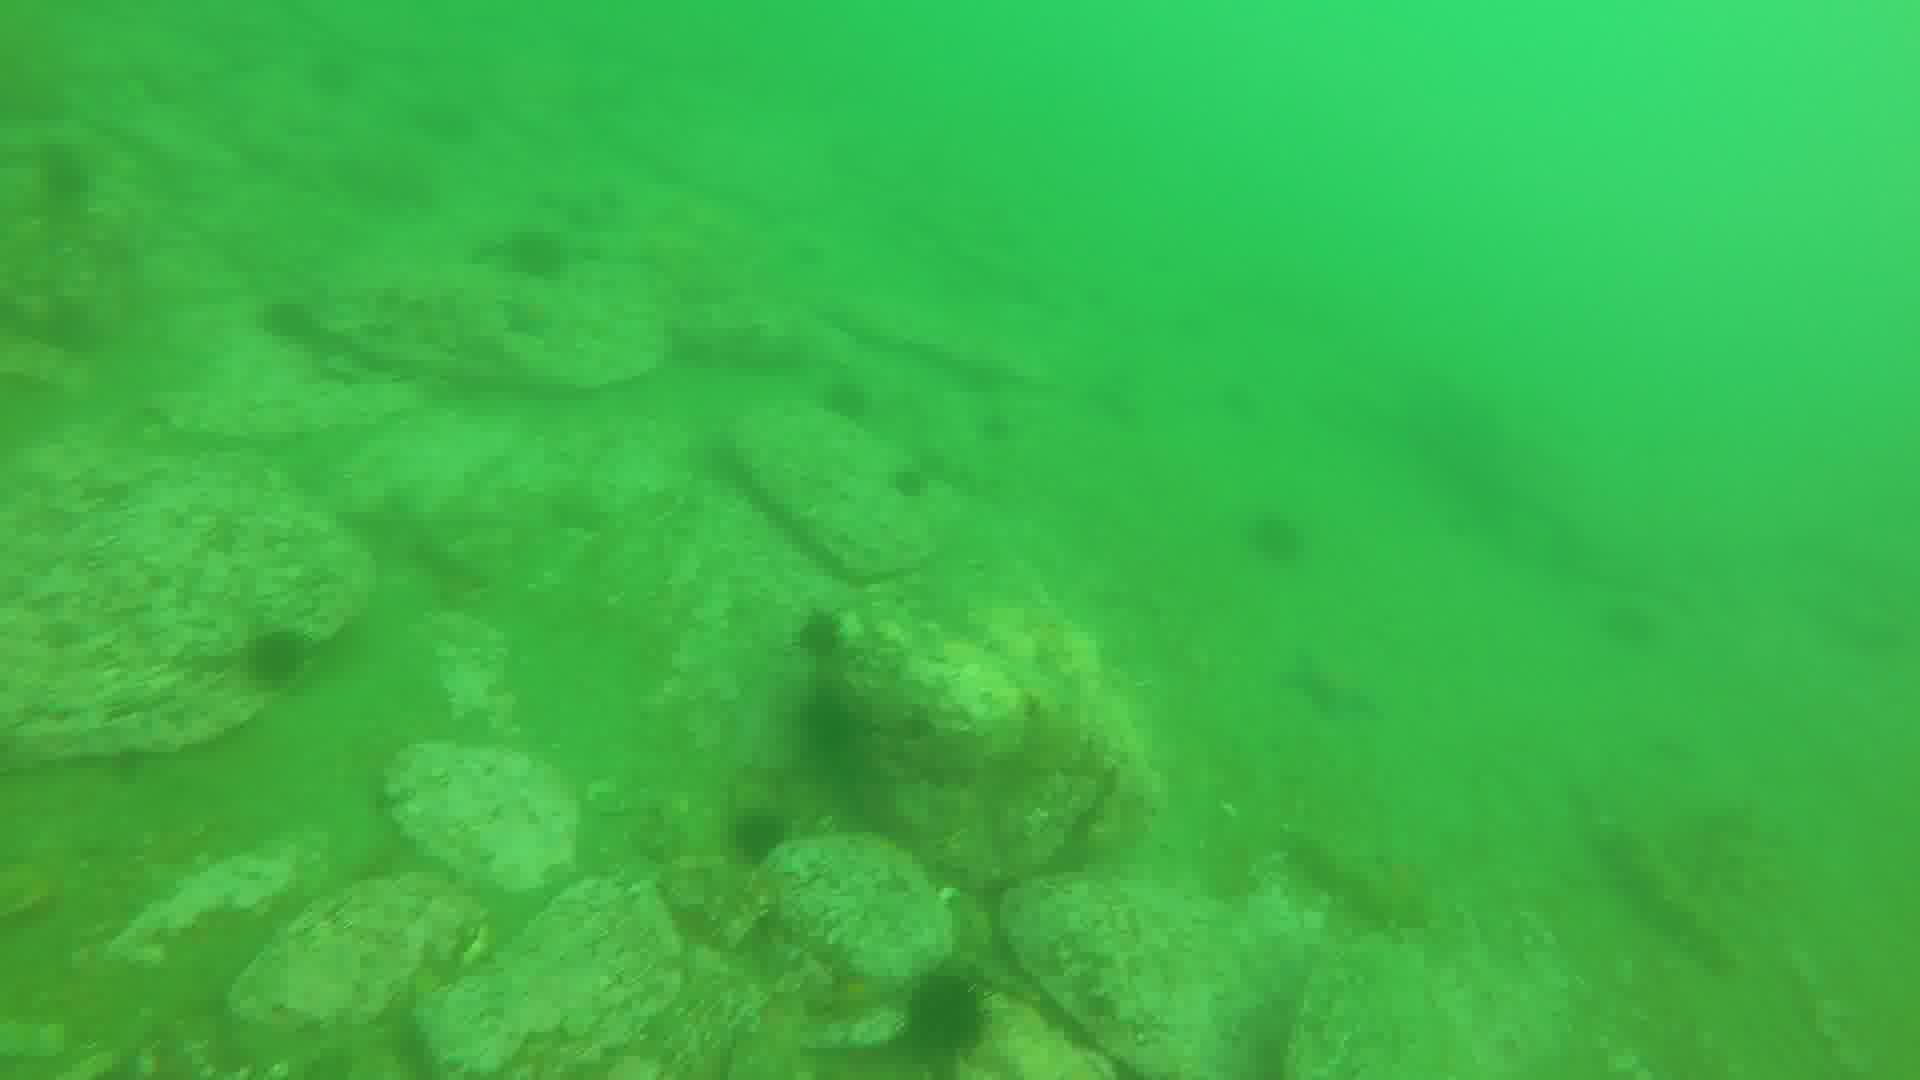echinus: (901, 964, 996, 1052), (241, 626, 309, 691), (1233, 505, 1300, 562), (728, 806, 791, 862), (509, 233, 566, 290), (260, 291, 320, 342), (793, 607, 855, 651), (827, 378, 870, 429), (891, 465, 938, 505)
starfish: (1276, 644, 1379, 723)
